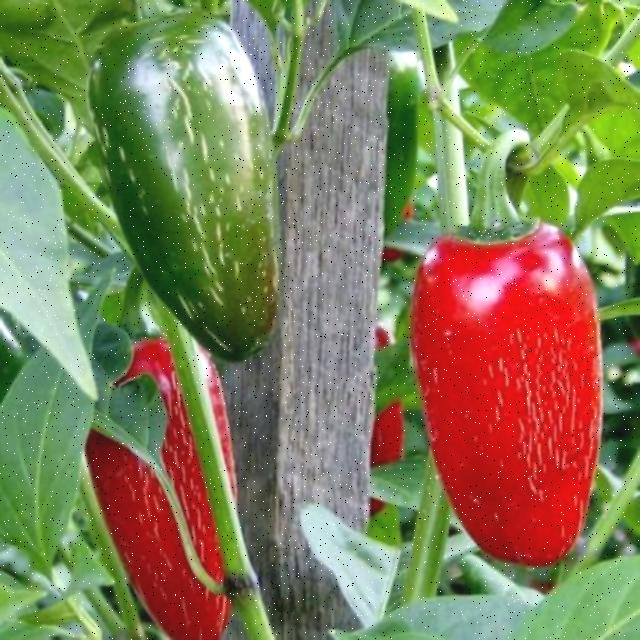Chili Pepper: (413, 130, 603, 567), (91, 13, 277, 361), (85, 338, 234, 640), (370, 300, 429, 510), (196, 347, 237, 524)
